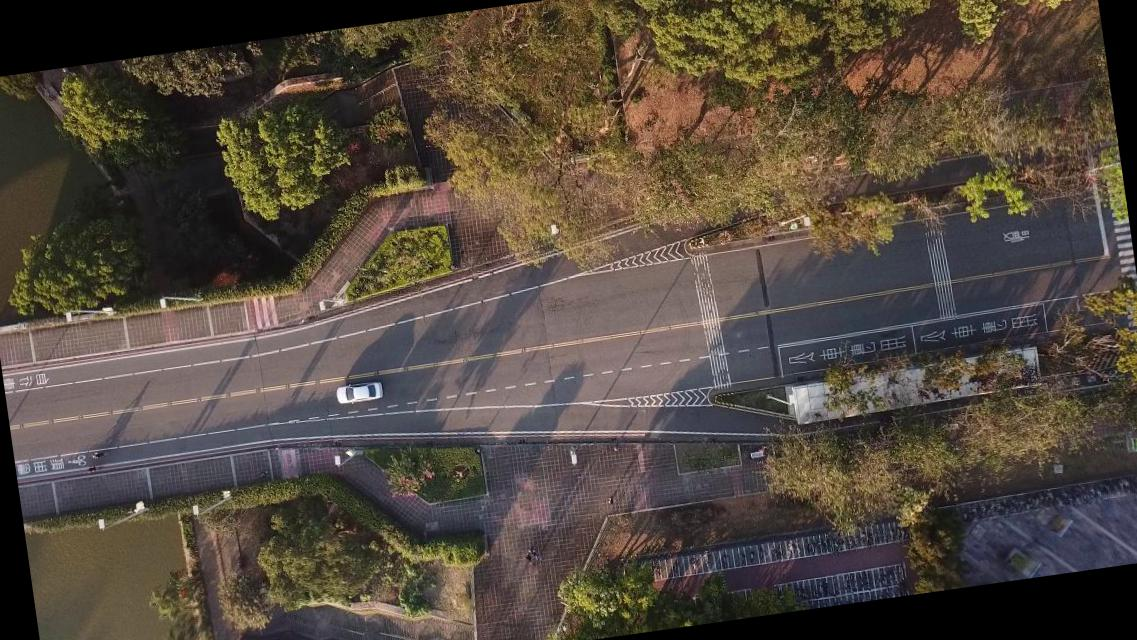vehicle: (335, 380, 384, 406)
